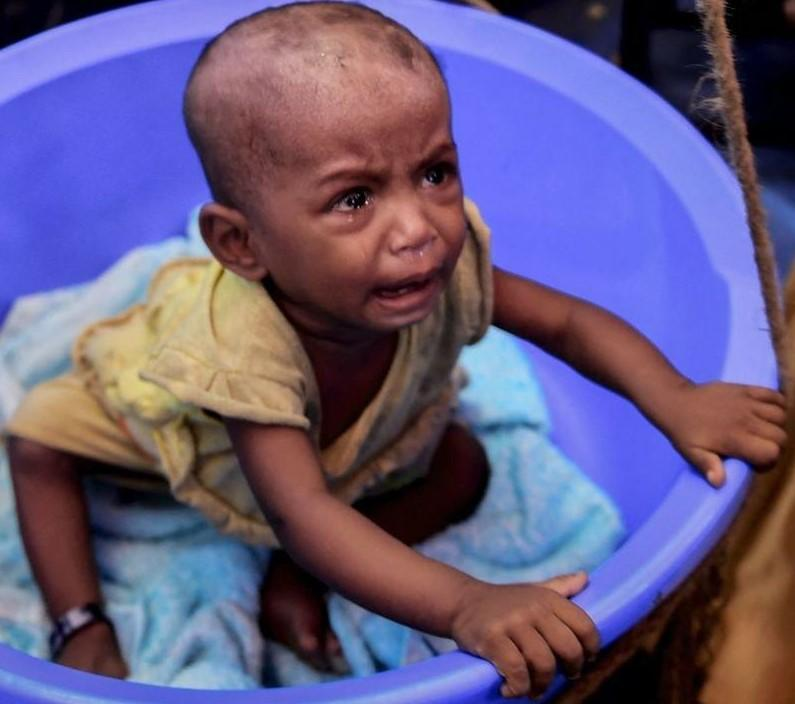Stunting: (152, 0, 518, 378)
